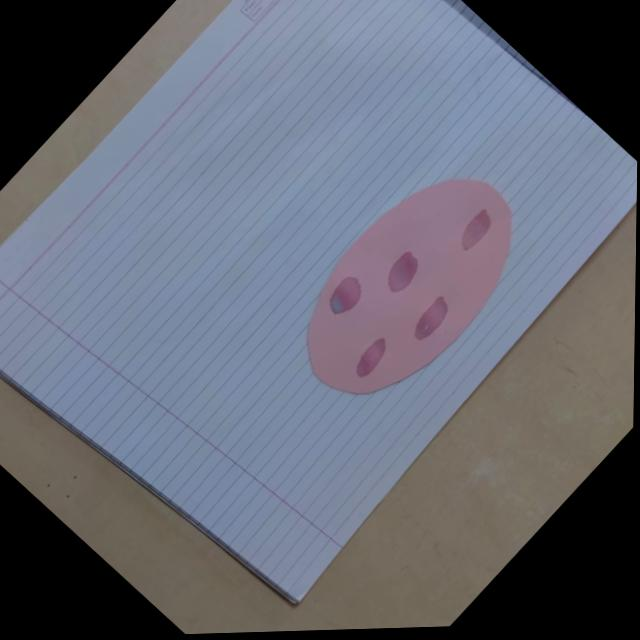BlueColor: (414, 297, 447, 340), (388, 252, 418, 292), (356, 338, 385, 378), (461, 211, 490, 251), (330, 278, 361, 314)
